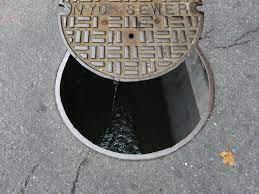closed manhole-not overflowing-: (55, 0, 227, 170)
